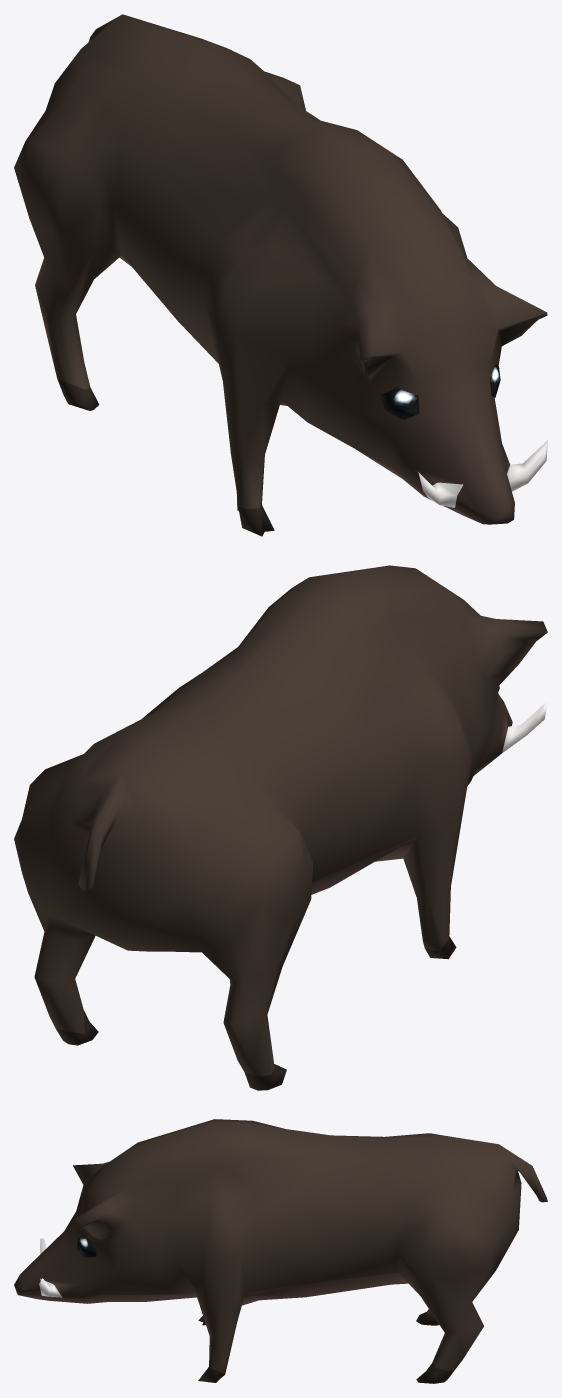
3 renders of one model, top to bottom at view 1: azimuth 30°, elevation 25°; view 2: azimuth 150°, elevation 25°; view 3: azimuth 270°, elevation 25°, orthographic. The views are drawn at different scales.
Visible parts, largest first — view 1: WildBoar; view 2: WildBoar; view 3: WildBoar.
Boxes of the visible parts, x1,y1,x2,y2 form: WildBoar: (14, 14, 547, 536); WildBoar: (14, 565, 547, 1090); WildBoar: (14, 1119, 547, 1383).
Size of what is drawn, in the model's own units: 0.6397 by 0.8176 by 1.74.
Materials: 2 (2 with a texture image).
